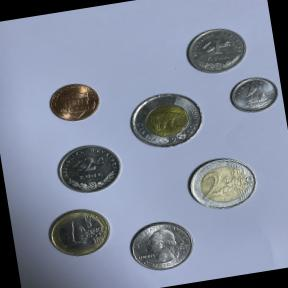1 Euro: (40, 201, 116, 264)
2 Euro: (179, 150, 264, 217)
Canda-10cent-: (223, 70, 284, 120)
Canda-2Dollar-: (120, 83, 212, 159)
Croatia-2Kune-: (48, 137, 128, 201)
US-1cent-: (43, 76, 106, 128)
US-25cent-: (122, 214, 199, 278)
